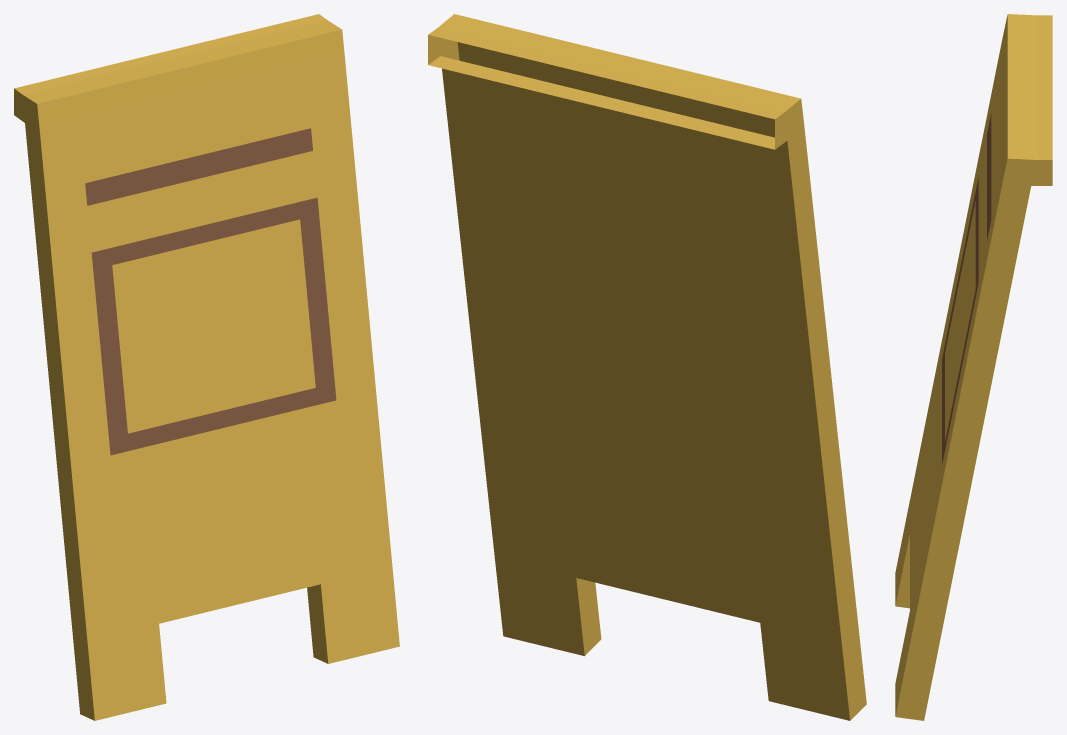
The model's file is prop-sign.glb.
The picture shows the model from 3 angles, left to right: view 1: azimuth 30°, elevation 25°; view 2: azimuth 150°, elevation 25°; view 3: azimuth 270°, elevation 25°; orthographic projection. The views are drawn at different scales.
Visible parts, largest first — view 1: Sign; view 2: Sign; view 3: Sign.
Part boxes in pixels (left/top/right/bottom): Sign: left=14, top=14, right=399, bottom=720; Sign: left=428, top=14, right=866, bottom=720; Sign: left=895, top=14, right=1052, bottom=720.
Bounding box in the file's own units: 0.5694 × 1.03 × 0.2612.
